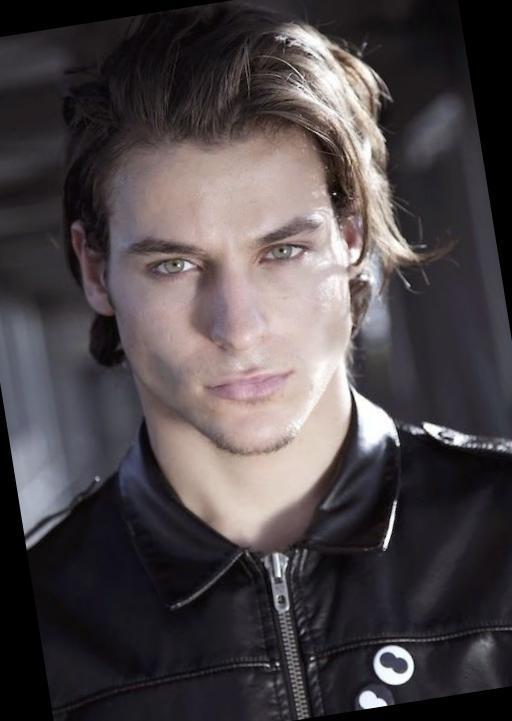Sober: (101, 145, 355, 436)
